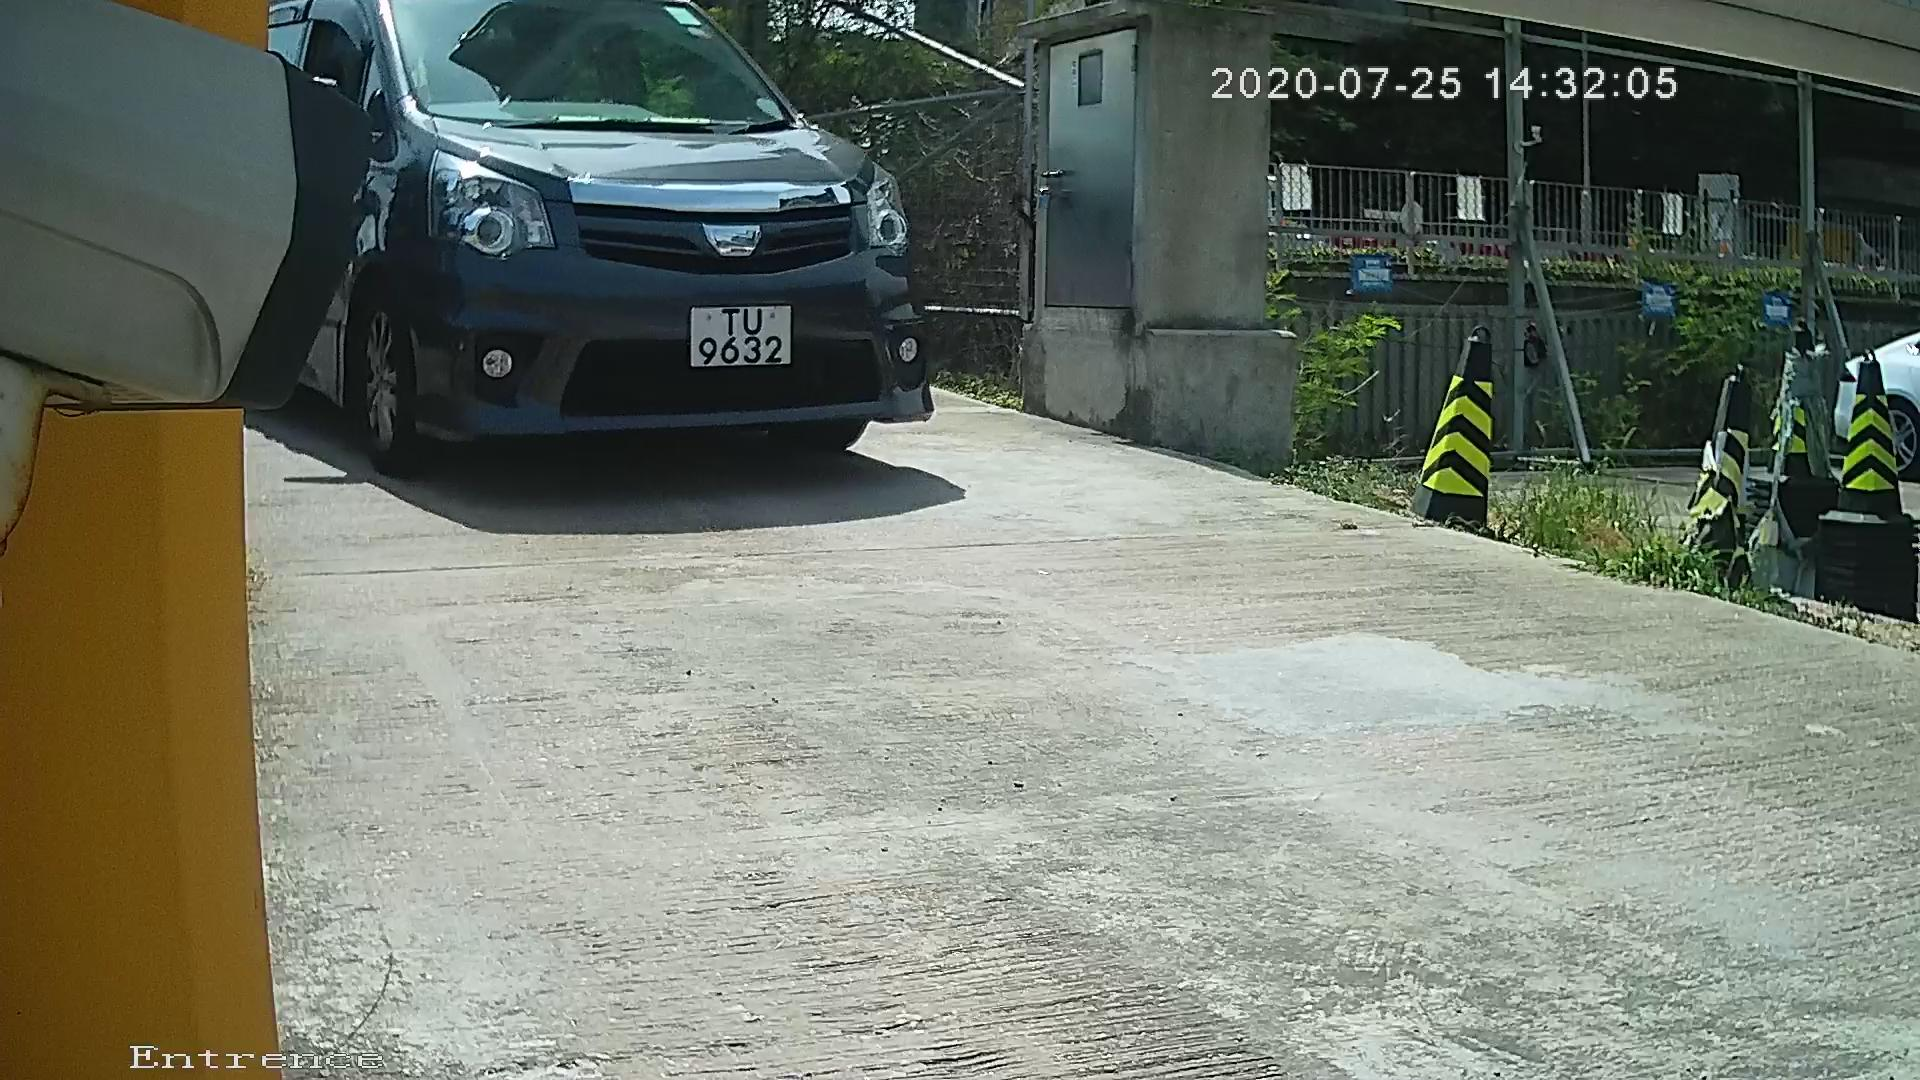Car: (189, 25, 986, 473)
License Plate: (661, 280, 806, 396)
